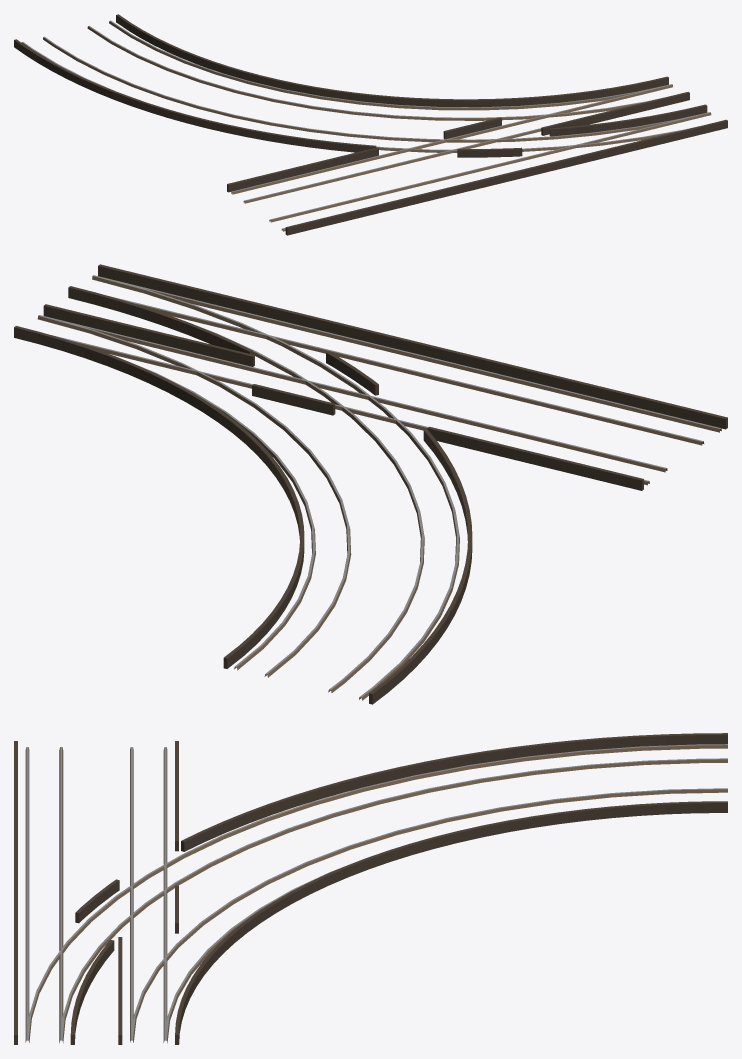
The model's file is SW_ENV_TrackJunction_EL_01_Collision.fbx.
3 views of the same model, one above another, from view 1: azimuth 30°, elevation 25°; view 2: azimuth 150°, elevation 25°; view 3: azimuth 270°, elevation 25° (orthographic). The views are drawn at different scales.
Visible parts, largest first — view 1: SW_ENV_TrackJunction_EL_01_Collision; view 2: SW_ENV_TrackJunction_EL_01_Collision; view 3: SW_ENV_TrackJunction_EL_01_Collision.
Boxes of the visible parts, <box> form: SW_ENV_TrackJunction_EL_01_Collision: <box>14,14,727,235</box>; SW_ENV_TrackJunction_EL_01_Collision: <box>14,264,727,704</box>; SW_ENV_TrackJunction_EL_01_Collision: <box>14,733,727,1044</box>.
Size of the model in its own units: 3081 by 47.71 by 3081.
